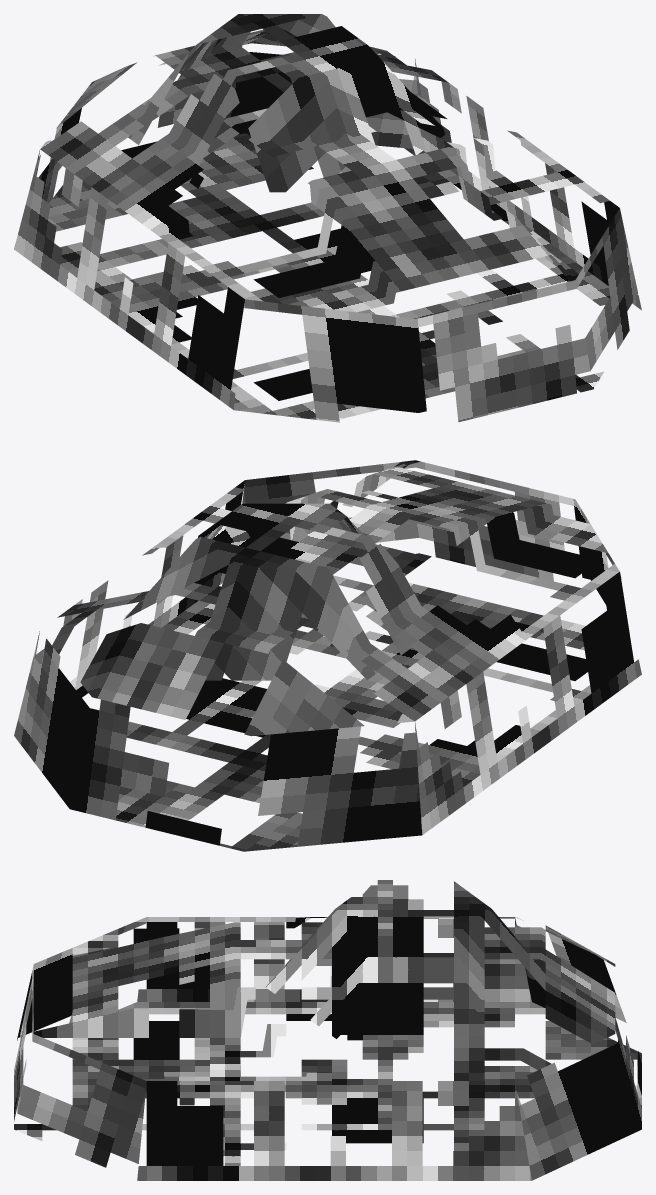
The model's file is drillson_wreck.glb.
The picture shows the model from 3 angles, top to bottom: view 1: azimuth 30°, elevation 25°; view 2: azimuth 150°, elevation 25°; view 3: azimuth 270°, elevation 25°; orthographic projection. The views are drawn at different scales.
Parts seen in each view (by area): view 1: DrillsonL1; view 2: DrillsonL1; view 3: DrillsonL1.
Part boxes in pixels (<box>): DrillsonL1: <box>14,14,641,422</box>; DrillsonL1: <box>14,460,641,851</box>; DrillsonL1: <box>14,880,641,1180</box>.
Size of the model in its own units: 5.09 by 2.41 by 7.55.
1 material, 1 textured.
